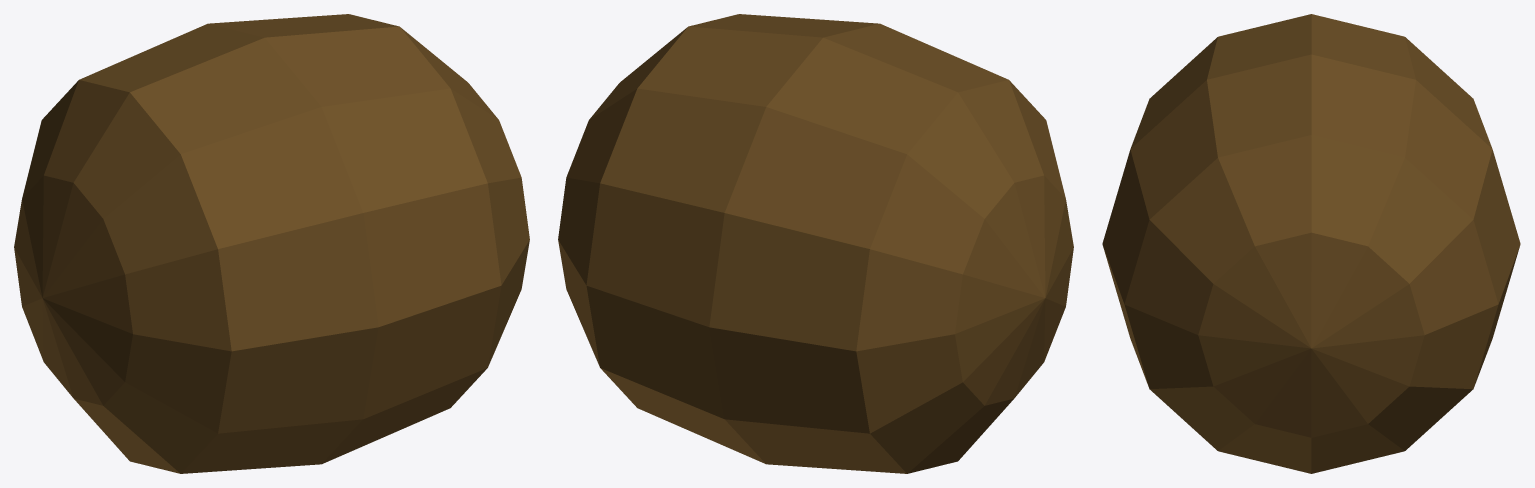
Rendered from kiviKOOL.fbx.
3 renders of one model, left to right at view 1: azimuth 30°, elevation 25°; view 2: azimuth 150°, elevation 25°; view 3: azimuth 270°, elevation 25°, orthographic. The views are drawn at different scales.
Parts seen in each view (by area): view 1: Sphere.004; view 2: Sphere.004; view 3: Sphere.004.
Boxes of the visible parts, bbox=[...] form: Sphere.004: bbox=[14, 14, 529, 473]; Sphere.004: bbox=[558, 14, 1073, 473]; Sphere.004: bbox=[1102, 14, 1520, 473].
Bounding box in the file's own units: 195 × 169 × 169.
